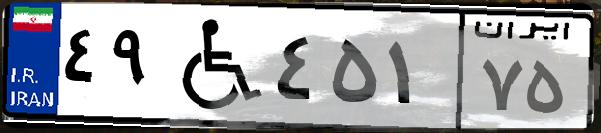1: (385, 28, 445, 110)
4: (270, 28, 330, 110), (57, 26, 110, 100)
5: (330, 28, 385, 110), (525, 38, 570, 115)
7: (475, 38, 525, 113)
9: (110, 28, 158, 98)
ژ (معلولین و جانبازان): (158, 12, 270, 120)
